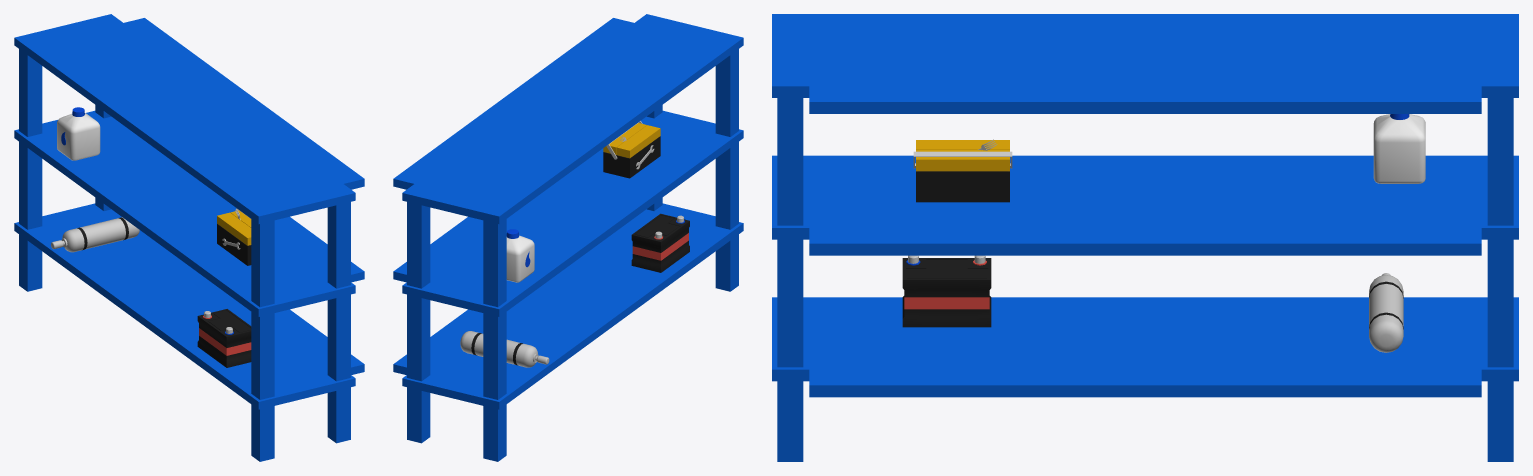
Rendered from Shelf_Items.fbx.
3 views of the same model, side by side, from view 1: azimuth 30°, elevation 25°; view 2: azimuth 150°, elevation 25°; view 3: azimuth 270°, elevation 25° (orthographic). The views are drawn at different scales.
Parts seen in each view (by area): view 1: Polica, Akumulator, Voda, GasCyliinder, Tools; view 2: Polica, Akumulator, Tools, GasCyliinder, Voda; view 3: Polica, Akumulator, Tools, Voda, GasCyliinder.
Part boxes in pixels (left/top/right/bottom): Polica: left=14, top=14, right=364, bottom=461; Akumulator: left=197, top=309, right=251, bottom=367; Voda: left=57, top=107, right=100, bottom=160; GasCyliinder: left=51, top=217, right=139, bottom=252; Tools: left=217, top=208, right=251, bottom=265; Polica: left=393, top=14, right=743, bottom=461; Akumulator: left=631, top=213, right=689, bottom=272; Tools: left=603, top=121, right=660, bottom=178; GasCyliinder: left=460, top=331, right=549, bottom=367; Voda: left=506, top=229, right=534, bottom=282; Polica: left=772, top=14, right=1518, bottom=461; Akumulator: left=902, top=255, right=991, bottom=327; Tools: left=913, top=139, right=1012, bottom=202; Voda: left=1373, top=114, right=1425, bottom=183; GasCyliinder: left=1369, top=273, right=1403, bottom=352.
Bounding box in the file's own units: 0.8365 × 1.6 × 2.87.
